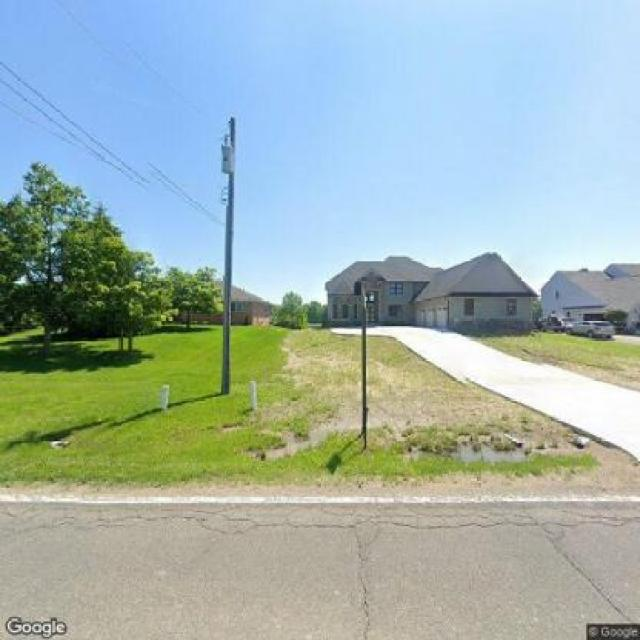pole: (201, 112, 256, 391)
